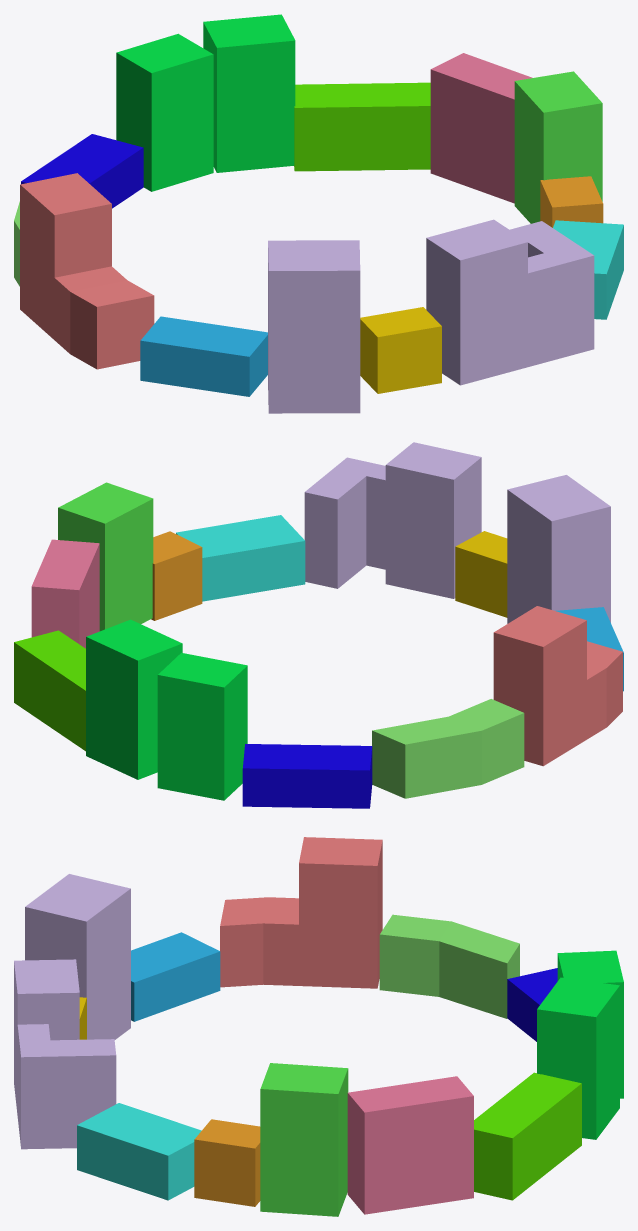
File: Town.gltf
3 views of the same model, one above another, from view 1: azimuth 30°, elevation 25°; view 2: azimuth 150°, elevation 25°; view 3: azimuth 270°, elevation 25° (orthographic). The views are drawn at different scales.
Visible parts, largest first — view 1: Cube.002, Cube.012, Cube.005, Cube.007, Cube.003, Cube.006, Cube.018, Cube.017, Cube.014, Cube.001, Cube.009, Cube.004 (+1 smaller); view 2: Cube.002, Cube.012, Cube.005, Cube.003, Cube.011, Cube.007, Cube.017, Cube.009, Cube.004, Cube.006, Cube.018, Cube.001 (+2 smaller); view 3: Cube.012, Cube.018, Cube.002, Cube.017, Cube.005, Cube.011, Cube.006, Cube.007, Cube.004, Cube.014, Cube.016, Cube.003 (+1 smaller).
Boxes of the visible parts, x1=… form: Cube.002: x1=426, y1=219, x2=594, y2=385; Cube.012: x1=20, y1=173, x2=154, y2=369; Cube.005: x1=268, y1=240, x2=360, y2=413; Cube.007: x1=203, y1=14, x2=295, y2=172; Cube.003: x1=116, y1=33, x2=213, y2=191; Cube.006: x1=294, y1=82, x2=430, y2=171; Cube.018: x1=430, y1=53, x2=532, y2=203; Cube.017: x1=514, y1=71, x2=602, y2=223; Cube.014: x1=140, y1=316, x2=267, y2=396; Cube.001: x1=360, y1=307, x2=441, y2=393; Cube.009: x1=21, y1=134, x2=143, y2=208; Cube.004: x1=553, y1=220, x2=623, y2=319; Cube.002: x1=304, y1=442, x2=481, y2=598; Cube.012: x1=493, y1=606, x2=622, y2=766; Cube.005: x1=507, y1=475, x2=610, y2=623; Cube.003: x1=157, y1=653, x2=247, y2=800; Cube.011: x1=372, y1=699, x2=524, y2=798; Cube.007: x1=86, y1=619, x2=182, y2=779; Cube.017: x1=58, y1=482, x2=153, y2=631; Cube.009: x1=242, y1=744, x2=372, y2=808; Cube.004: x1=176, y1=515, x2=305, y2=601; Cube.006: x1=14, y1=630, x2=85, y2=751; Cube.018: x1=31, y1=539, x2=99, y2=648; Cube.001: x1=455, y1=531, x2=507, y2=617; Cube.012: x1=220, y1=837, x2=382, y2=988; Cube.018: x1=347, y1=1076, x2=473, y2=1214; Cube.002: x1=14, y1=959, x2=116, y2=1149; Cube.017: x1=260, y1=1063, x2=348, y2=1216; Cube.005: x1=25, y1=874, x2=130, y2=1039; Cube.011: x1=379, y1=914, x2=519, y2=1018; Cube.006: x1=474, y1=1072, x2=581, y2=1200; Cube.007: x1=537, y1=977, x2=619, y2=1139; Cube.004: x1=77, y1=1103, x2=201, y2=1200; Cube.014: x1=131, y1=932, x2=220, y2=1021; Cube.016: x1=194, y1=1119, x2=260, y2=1206; Cube.003: x1=557, y1=950, x2=623, y2=1098.
Size of the model in its own units: 143 by 36.04 by 143.
